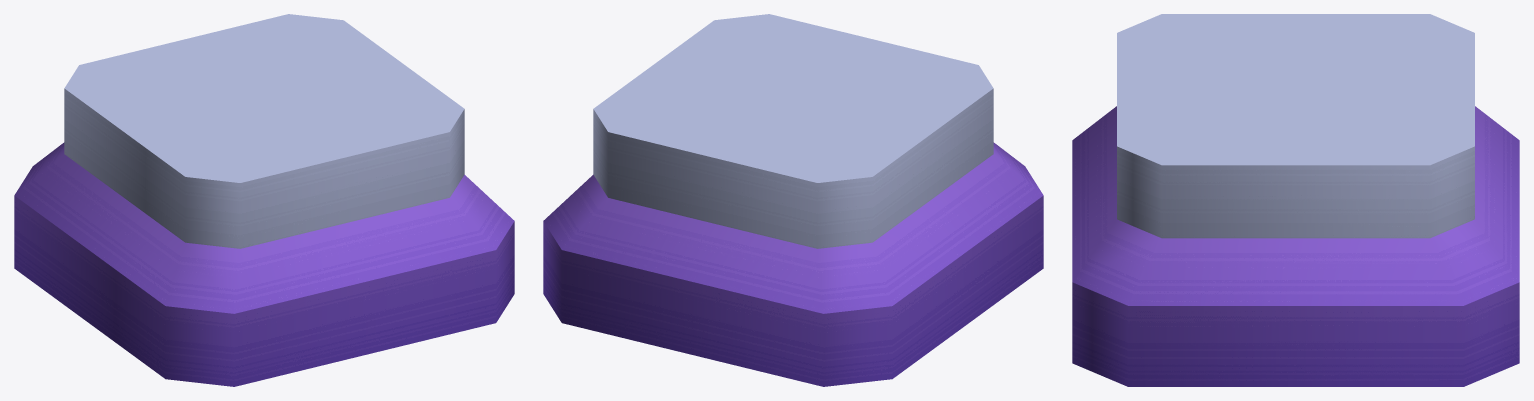
The model's file is tower-defense-kit--tower-square-bottom-a.glb.
The picture shows the model from 3 angles, left to right: view 1: azimuth 30°, elevation 25°; view 2: azimuth 150°, elevation 25°; view 3: azimuth 270°, elevation 25°; orthographic projection. The views are drawn at different scales.
Visible parts, largest first — view 1: tower-square-bottom-a; view 2: tower-square-bottom-a; view 3: tower-square-bottom-a.
Boxes of the visible parts, <box> form: tower-square-bottom-a: <box>14,14,514,386</box>; tower-square-bottom-a: <box>543,14,1043,386</box>; tower-square-bottom-a: <box>1072,14,1519,386</box>.
Bounding box in the file's own units: 1 × 0.5 × 1.
Materials: 1 (1 with a texture image).
